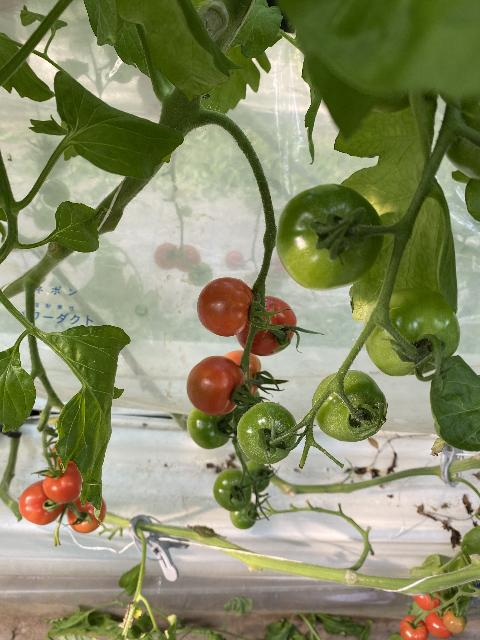l_fully_ripened: (236, 295, 297, 356), (187, 355, 247, 415), (197, 277, 255, 337), (18, 479, 65, 526), (43, 461, 83, 504), (68, 493, 107, 533), (425, 608, 452, 639), (400, 614, 428, 640), (413, 591, 443, 611)
l_green: (277, 182, 385, 290), (363, 289, 461, 376), (312, 369, 387, 442), (237, 401, 298, 465), (186, 408, 234, 450), (213, 469, 253, 511), (240, 460, 271, 493), (230, 502, 258, 529)
l_half_ripened: (224, 350, 261, 400), (443, 610, 465, 634)
